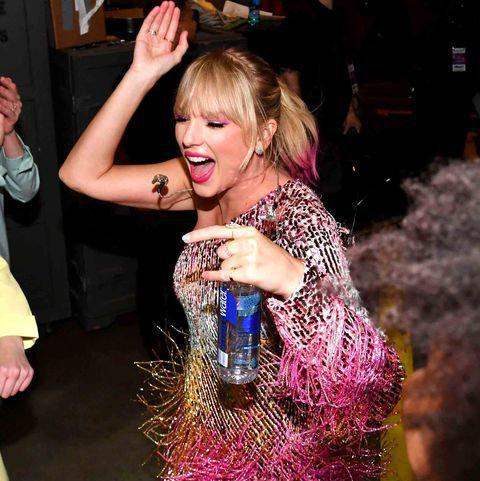Drunk: (171, 84, 244, 194)
